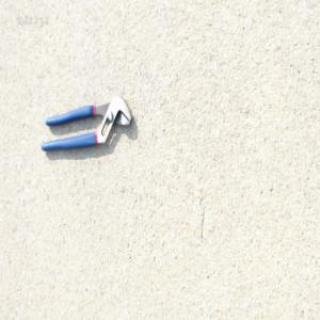Pliertrack_idkeyframe: (38, 93, 132, 153)
